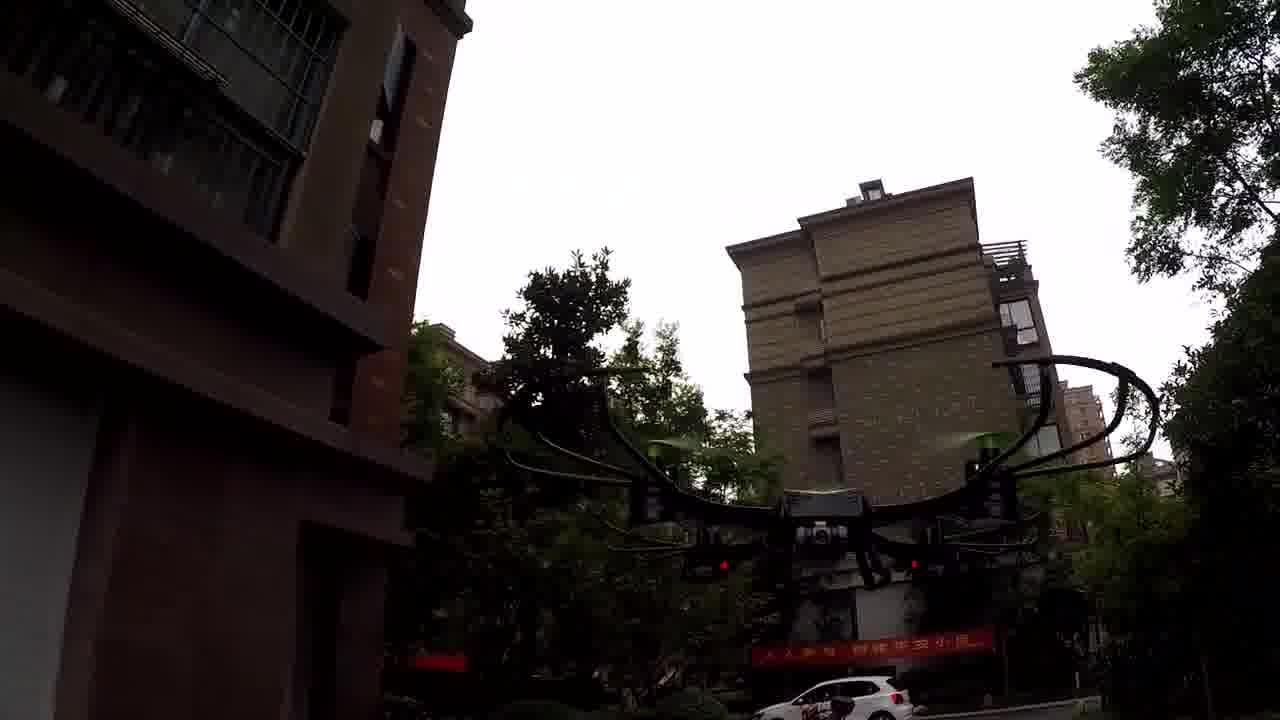drone: (444, 336, 1169, 611)
